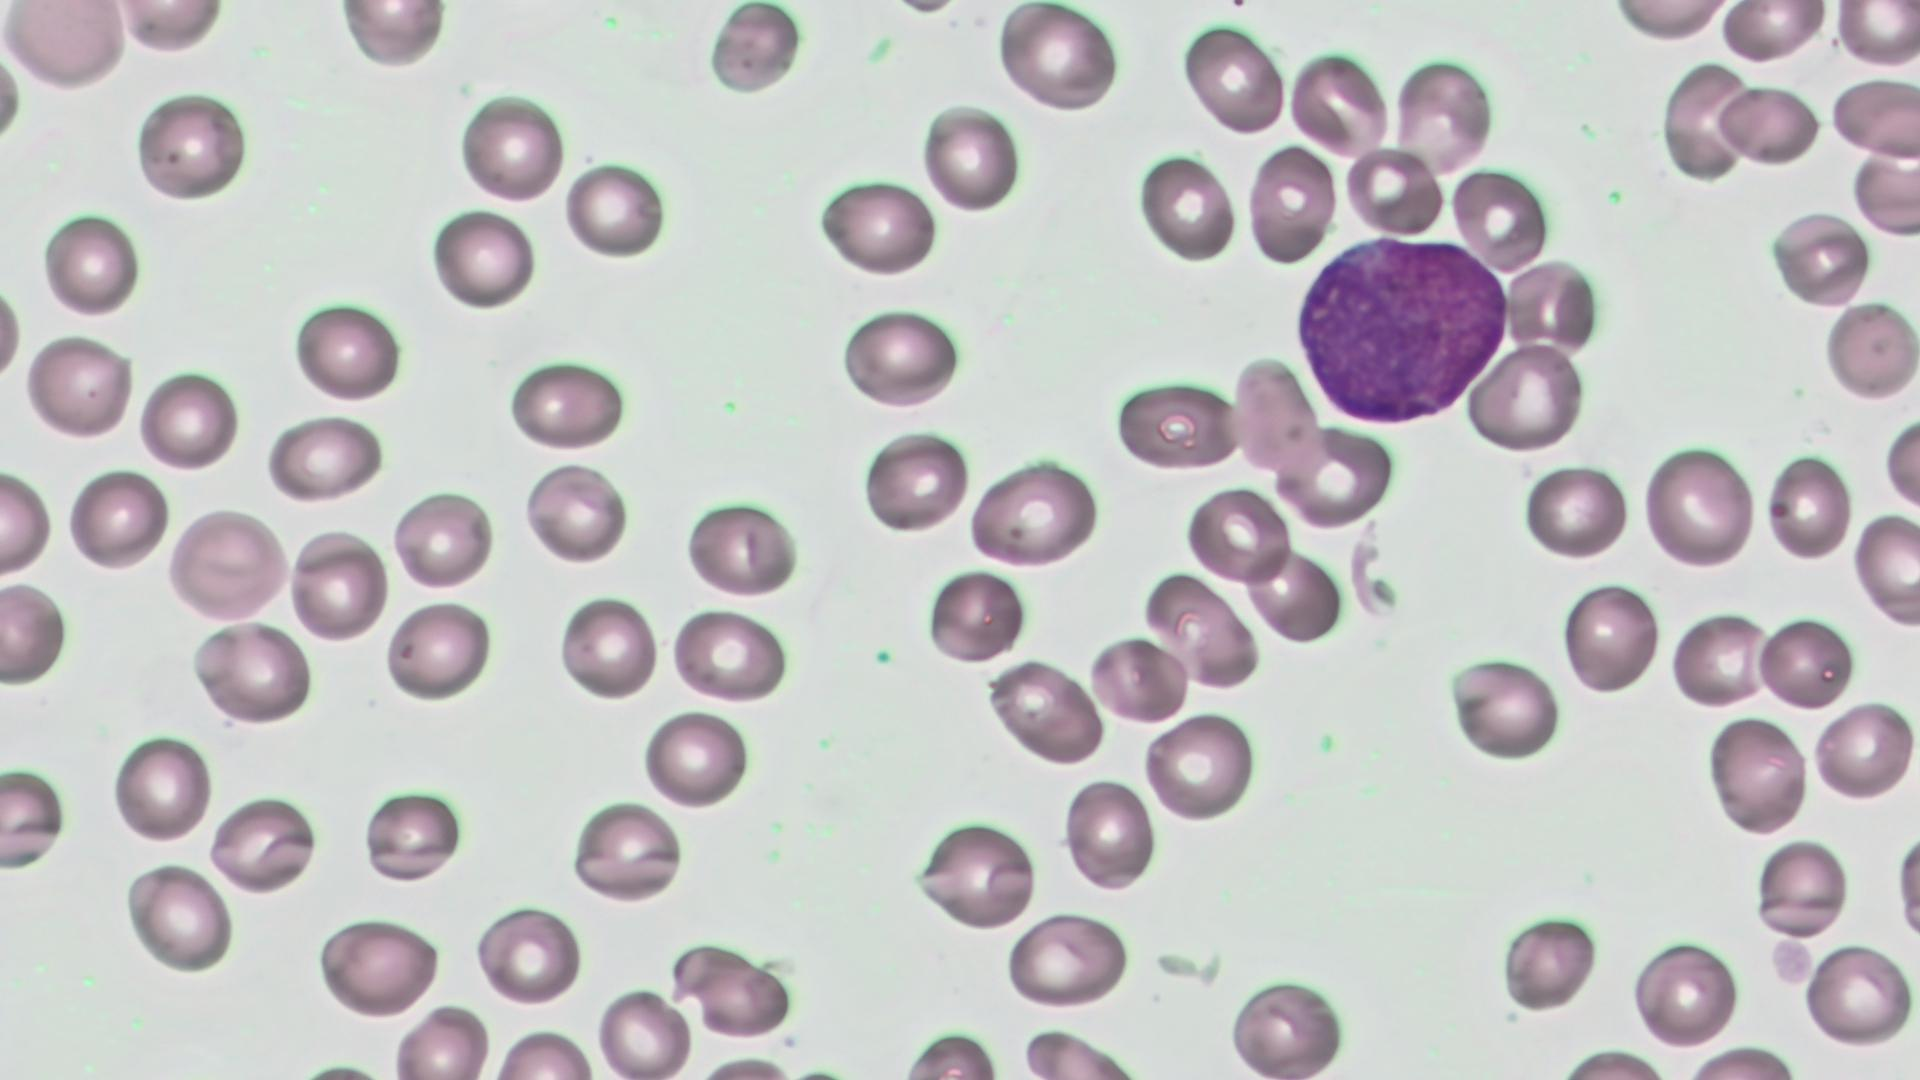RBC: (964, 455, 1101, 568), (1142, 564, 1262, 694), (1640, 440, 1756, 574), (165, 505, 291, 626), (1462, 338, 1586, 458), (131, 84, 251, 208), (994, 0, 1124, 115), (909, 816, 1035, 932), (313, 910, 443, 1022), (121, 857, 237, 977), (454, 87, 568, 208), (814, 171, 939, 282), (837, 305, 964, 411), (1109, 375, 1244, 475), (1444, 651, 1563, 765), (1704, 711, 1809, 837), (1142, 709, 1257, 825), (984, 657, 1104, 767), (1178, 20, 1288, 140), (193, 618, 314, 728), (1273, 422, 1395, 530), (1004, 909, 1131, 1011), (1630, 934, 1742, 1051), (1225, 972, 1349, 1077), (22, 328, 135, 444), (289, 295, 406, 406), (916, 98, 1025, 216), (860, 425, 973, 537), (1134, 146, 1240, 266), (568, 796, 687, 902), (109, 728, 214, 848), (429, 202, 541, 313), (382, 595, 495, 705), (680, 495, 800, 597), (1393, 55, 1494, 177), (669, 603, 790, 704), (1803, 939, 1913, 1050), (502, 356, 629, 452), (1286, 47, 1393, 161), (555, 589, 661, 704), (1560, 578, 1659, 699), (388, 484, 497, 593), (1495, 907, 1604, 1018), (560, 156, 673, 262), (40, 206, 142, 322), (522, 458, 632, 566), (1062, 771, 1156, 895), (1246, 140, 1338, 266), (1658, 61, 1754, 182), (640, 707, 752, 811), (1520, 458, 1630, 563), (473, 901, 585, 1004), (3, 3, 127, 95), (65, 465, 170, 574), (1811, 698, 1916, 804), (206, 791, 316, 893), (1182, 484, 1292, 585), (287, 531, 388, 644), (1668, 607, 1774, 712), (924, 564, 1029, 669), (137, 367, 240, 472), (262, 411, 382, 501), (1822, 295, 1917, 406), (1449, 166, 1549, 270), (1760, 448, 1851, 563), (1505, 255, 1604, 359), (1750, 836, 1850, 938), (1242, 543, 1344, 644), (1754, 613, 1855, 713), (363, 786, 467, 884), (1764, 214, 1873, 305), (1342, 144, 1445, 237), (688, 952, 795, 1042), (593, 982, 695, 1076), (1087, 633, 1189, 723), (1718, 80, 1822, 167), (334, 1, 452, 71), (1851, 512, 1920, 626), (389, 1001, 493, 1076), (1828, 74, 1917, 161), (1, 579, 70, 688), (0, 764, 67, 869), (1720, 1, 1826, 65), (108, 1, 229, 55), (1847, 146, 1917, 237), (1833, 1, 1920, 70), (0, 465, 53, 578), (489, 1023, 597, 1077), (1606, 0, 1726, 42), (1880, 410, 1920, 525), (1892, 818, 1920, 957)
WBC: (1288, 233, 1510, 429)
